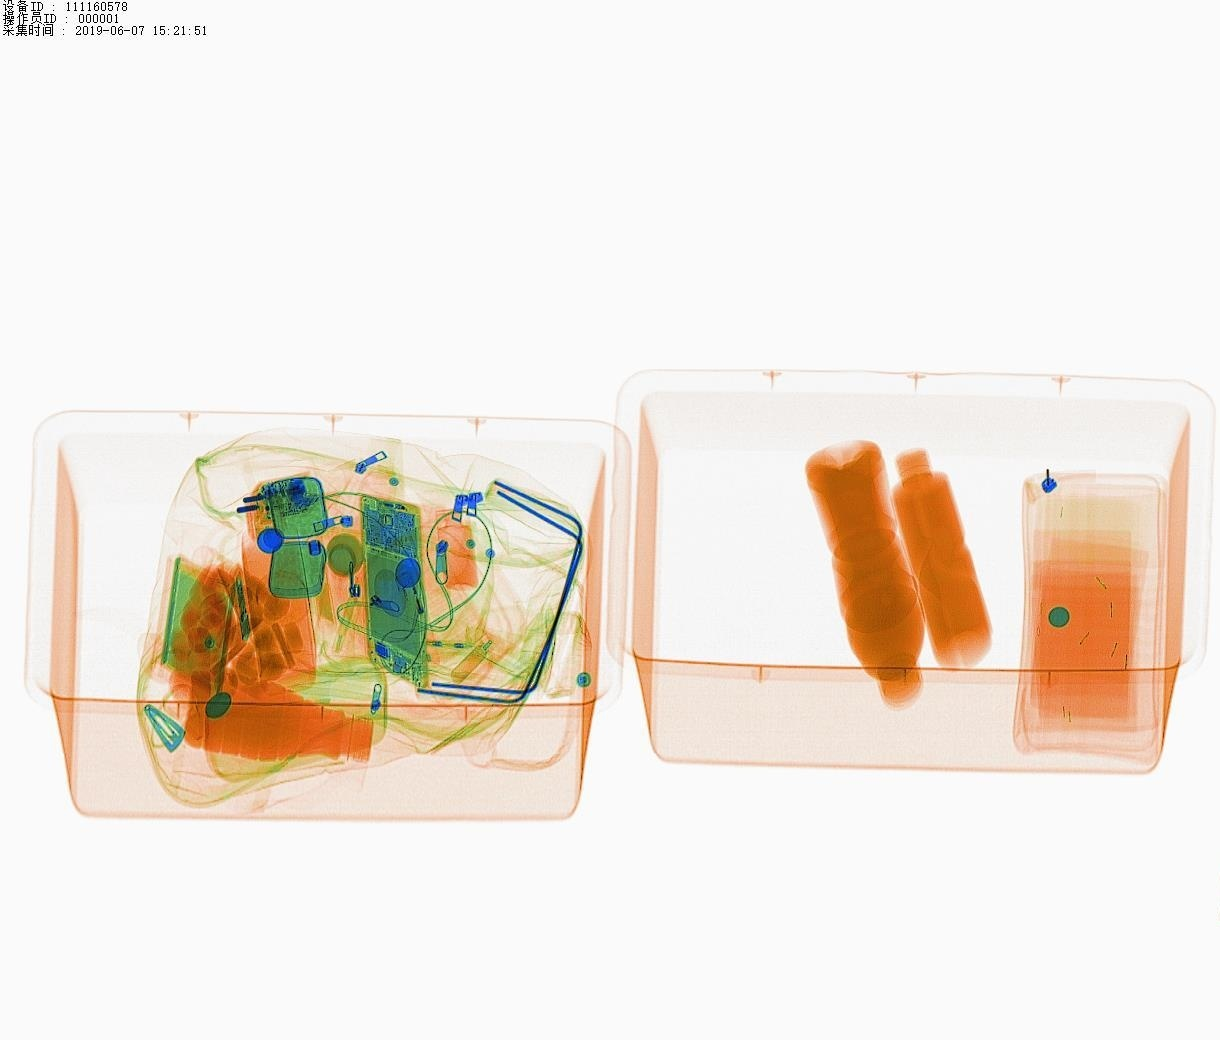NonmetallicFire: (391, 558, 465, 687)
